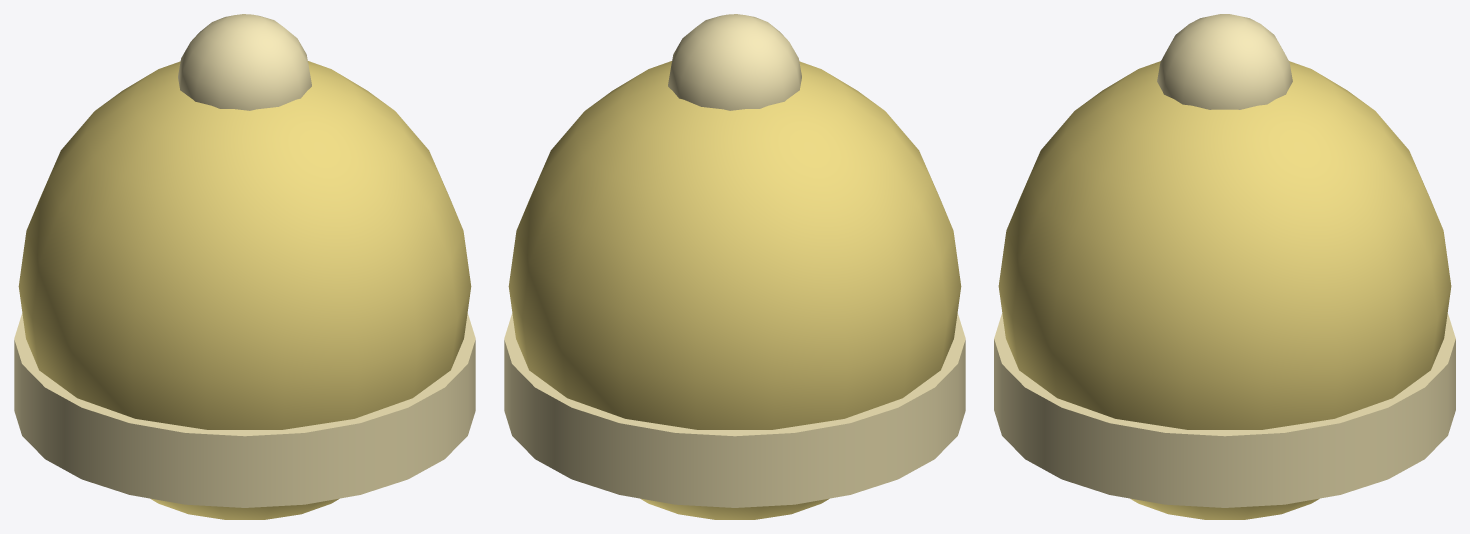
The model's file is VM-CAB-SH16385032.glb.
3 views of the same model, side by side, from view 1: azimuth 30°, elevation 25°; view 2: azimuth 150°, elevation 25°; view 3: azimuth 270°, elevation 25° (orthographic).
Visible parts, largest first — view 1: Gorra Béisbol Ajustable Unisex; view 2: Gorra Béisbol Ajustable Unisex; view 3: Gorra Béisbol Ajustable Unisex.
Part boxes in pixels (box(x1,y1,x2,y2)): Gorra Béisbol Ajustable Unisex: box(14, 14, 475, 519); Gorra Béisbol Ajustable Unisex: box(504, 14, 965, 519); Gorra Béisbol Ajustable Unisex: box(994, 14, 1455, 519).
Bounding box in the file's own units: 0.2205 × 0.254 × 0.2205.
